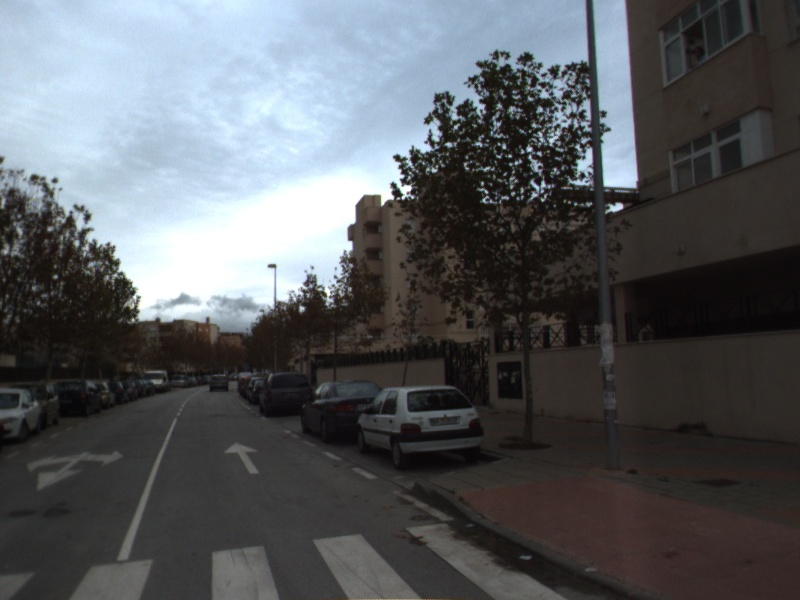STRAIGHT: (223, 440, 262, 475)
